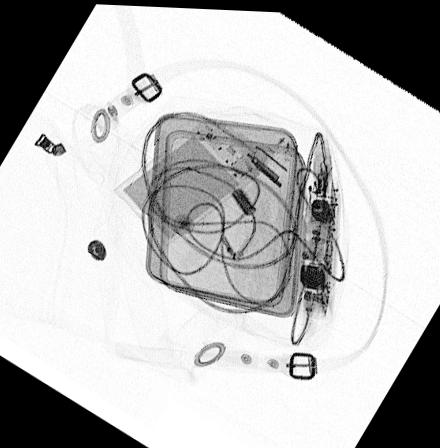Powerbank: (113, 117, 261, 245)
